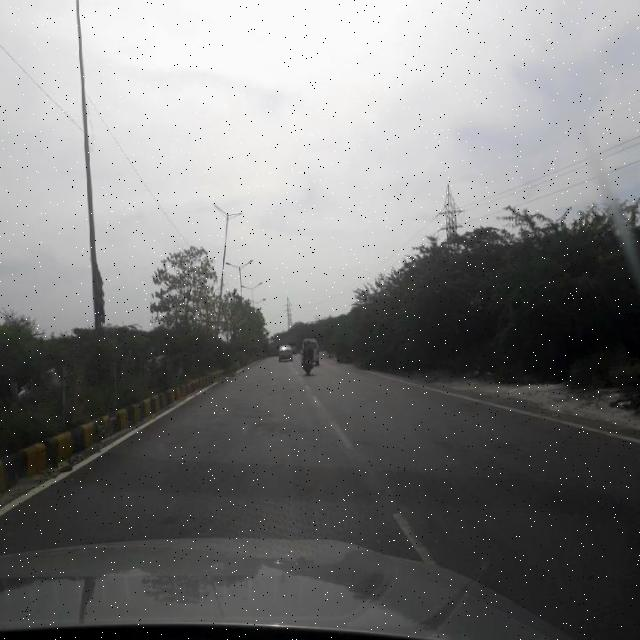D40: (486, 432, 537, 457)
